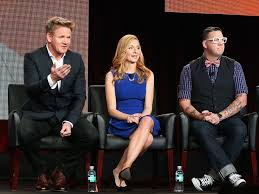Bad: (18, 16, 160, 189), (105, 27, 248, 190)
